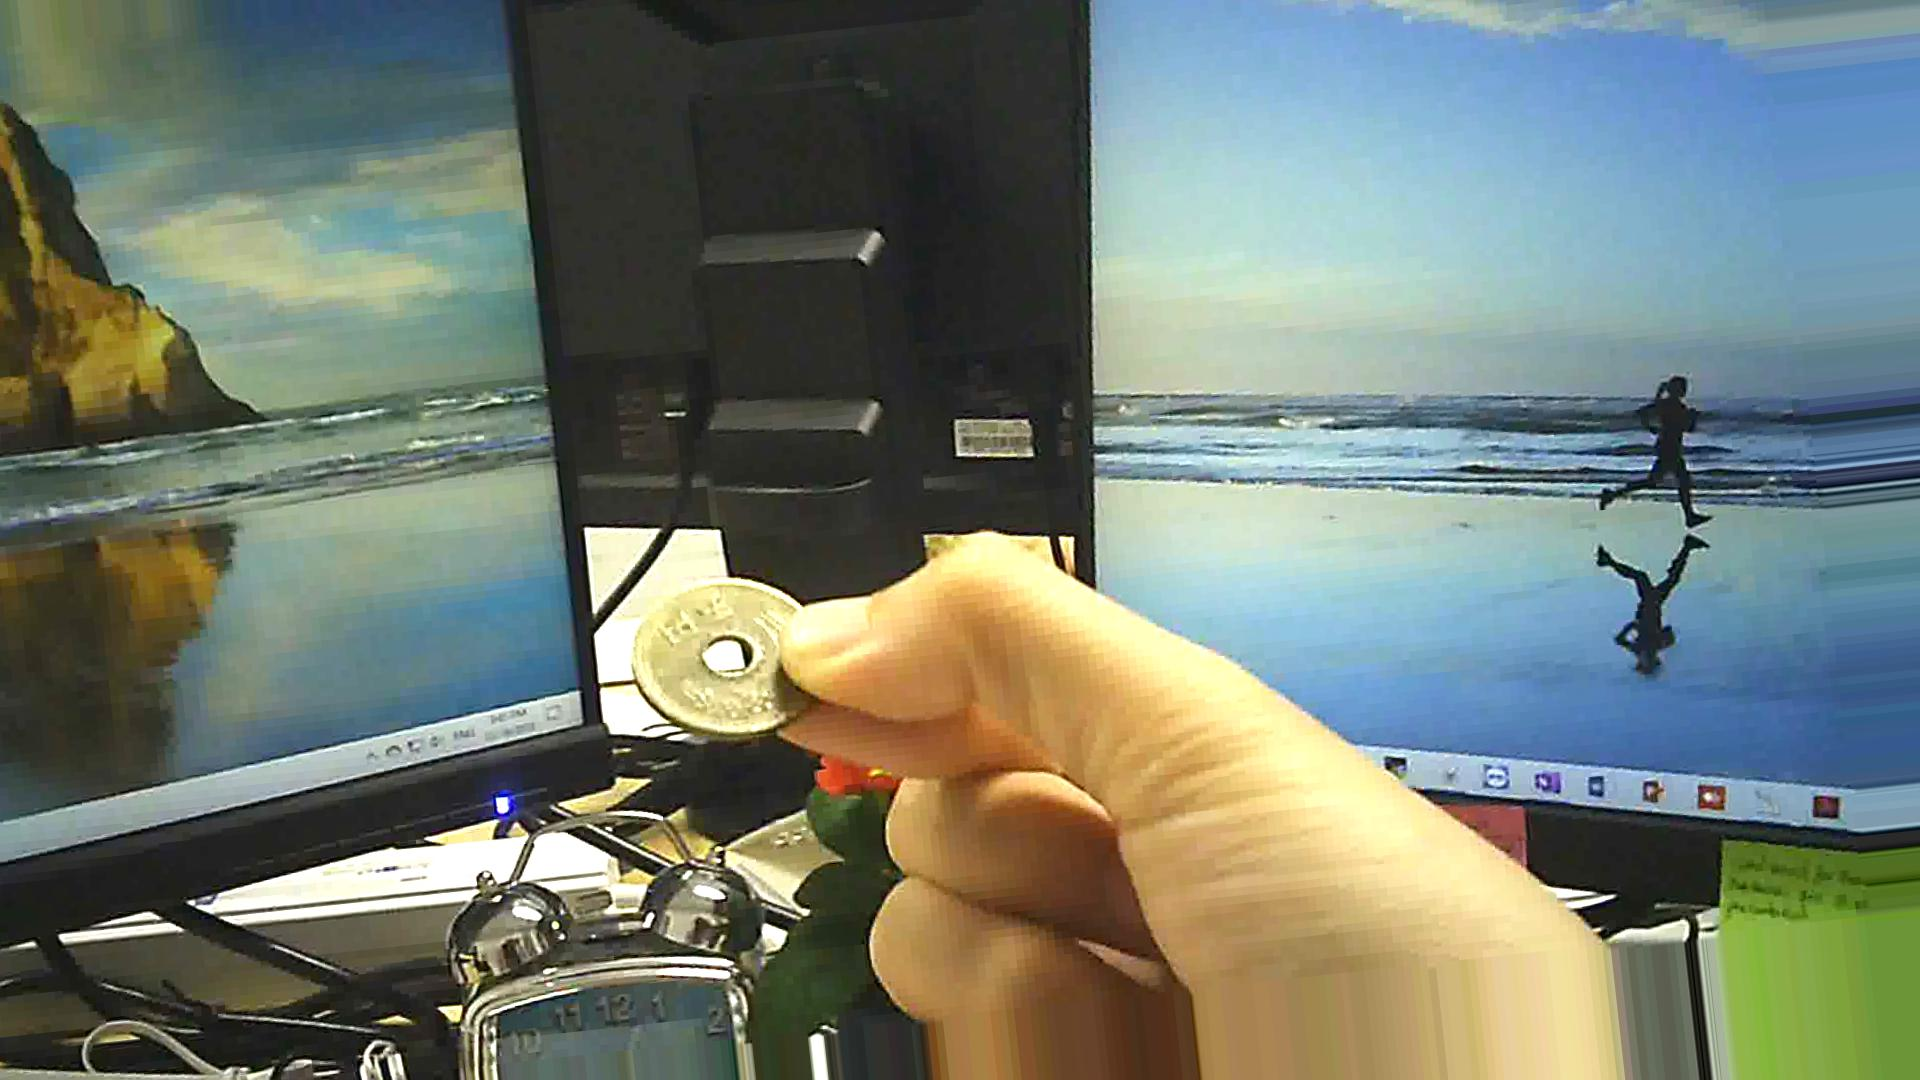5 Yen: (634, 579, 824, 735)
